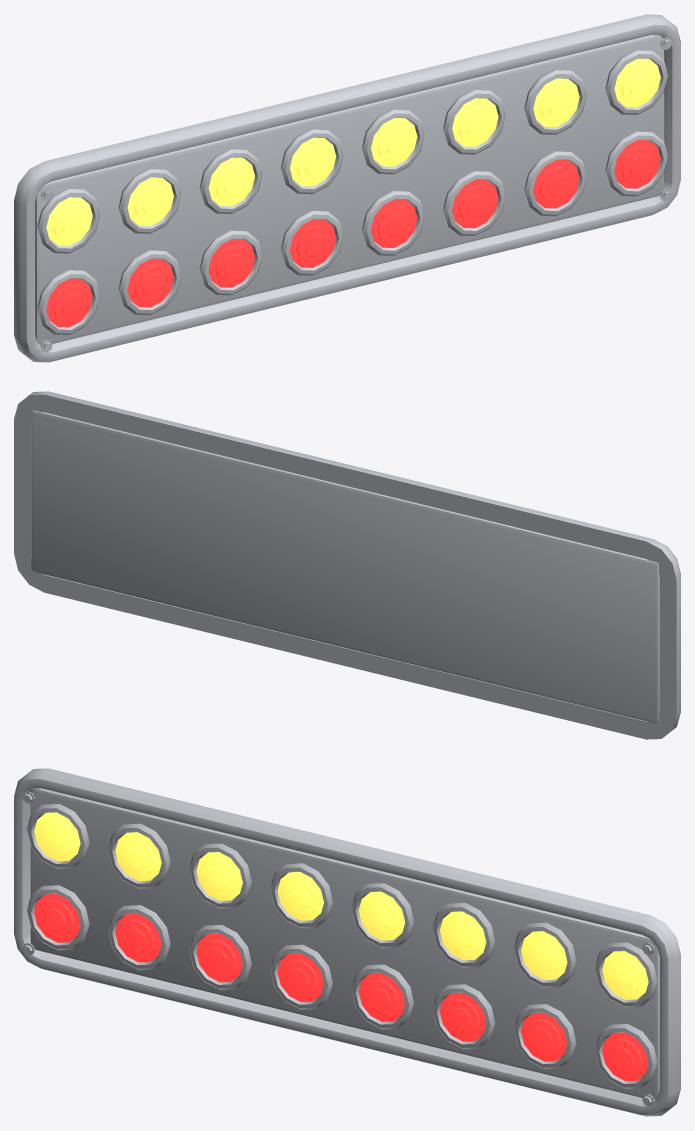
Rendered from rear_tail_bar_dx.glb.
The picture shows the model from 3 angles, top to bottom: view 1: azimuth 30°, elevation 25°; view 2: azimuth 150°, elevation 25°; view 3: azimuth 330°, elevation 25°; orthographic projection.
Parts seen in each view (by area): view 1: chrome, lamp_amber, lamp_red; view 2: chrome; view 3: chrome, lamp_amber, lamp_red.
Part boxes in pixels (<box>): chrome: <box>14,14,680,362</box>; lamp_amber: <box>46,58,660,245</box>; lamp_red: <box>46,140,660,327</box>; chrome: <box>14,391,680,739</box>; chrome: <box>14,768,680,1116</box>; lamp_amber: <box>34,812,648,999</box>; lamp_red: <box>34,894,648,1081</box>.
Bounding box in the file's own units: 1.96 × 0.56 × 0.0714.
